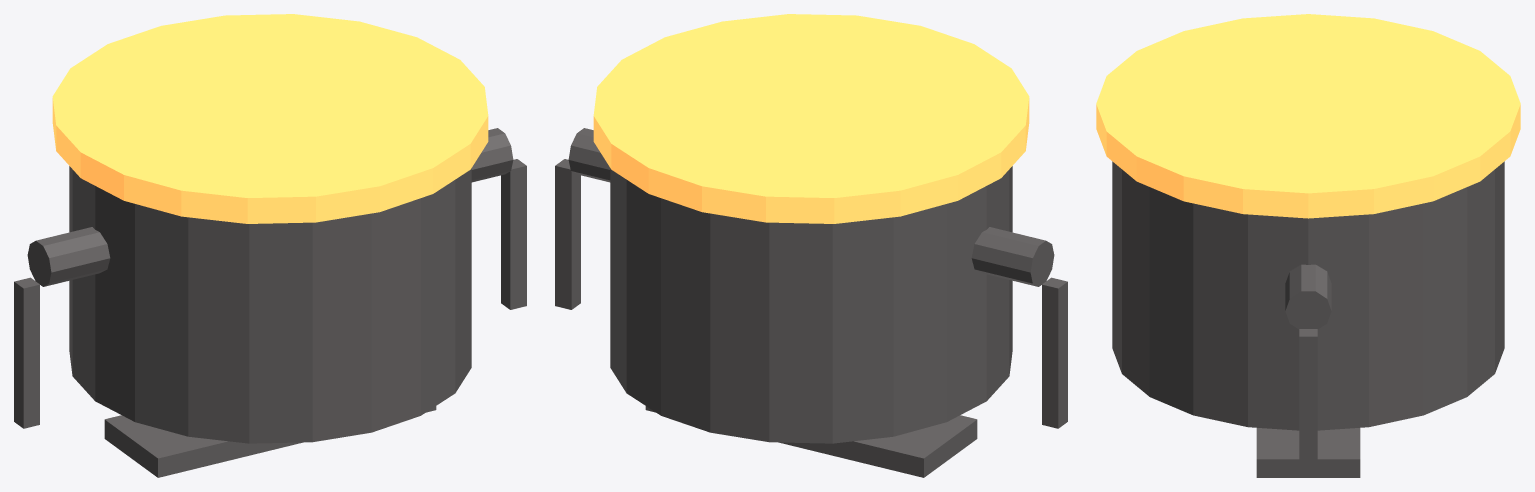
Rendered from crucible.glb.
3 renders of one model, left to right at view 1: azimuth 30°, elevation 25°; view 2: azimuth 150°, elevation 25°; view 3: azimuth 270°, elevation 25°, orthographic. The views are drawn at different scales.
Visible parts, largest first — view 1: Vessel, VesselLip, Base, Upright-1, Upright+1, Trunnion-1, Trunnion+1; view 2: Vessel, VesselLip, Base, Upright-1, Upright+1, Trunnion-1, Trunnion+1; view 3: Vessel, VesselLip, Base, Upright+1, Trunnion+1.
Boxes of the visible parts, left/top/right/bottom form: Vessel: left=69, top=166, right=471, bottom=443; VesselLip: left=52, top=14, right=488, bottom=223; Base: left=104, top=406, right=436, bottom=477; Upright-1: left=14, top=277, right=39, bottom=428; Upright+1: left=501, top=159, right=526, bottom=309; Trunnion-1: left=27, top=227, right=110, bottom=286; Trunnion+1: left=471, top=128, right=513, bottom=182; Vessel: left=610, top=166, right=1012, bottom=443; VesselLip: left=593, top=14, right=1029, bottom=223; Base: left=645, top=406, right=977, bottom=477; Upright-1: left=1042, top=277, right=1067, bottom=428; Upright+1: left=555, top=159, right=580, bottom=309; Trunnion-1: left=971, top=227, right=1054, bottom=286; Trunnion+1: left=568, top=128, right=610, bottom=182; Vessel: left=1112, top=161, right=1504, bottom=430; VesselLip: left=1096, top=14, right=1520, bottom=218; Base: left=1256, top=428, right=1360, bottom=477; Upright+1: left=1299, top=329, right=1317, bottom=472; Trunnion+1: left=1285, top=264, right=1331, bottom=329.
Bounding box in the file's own units: 2.44 × 1.48 × 1.84.
